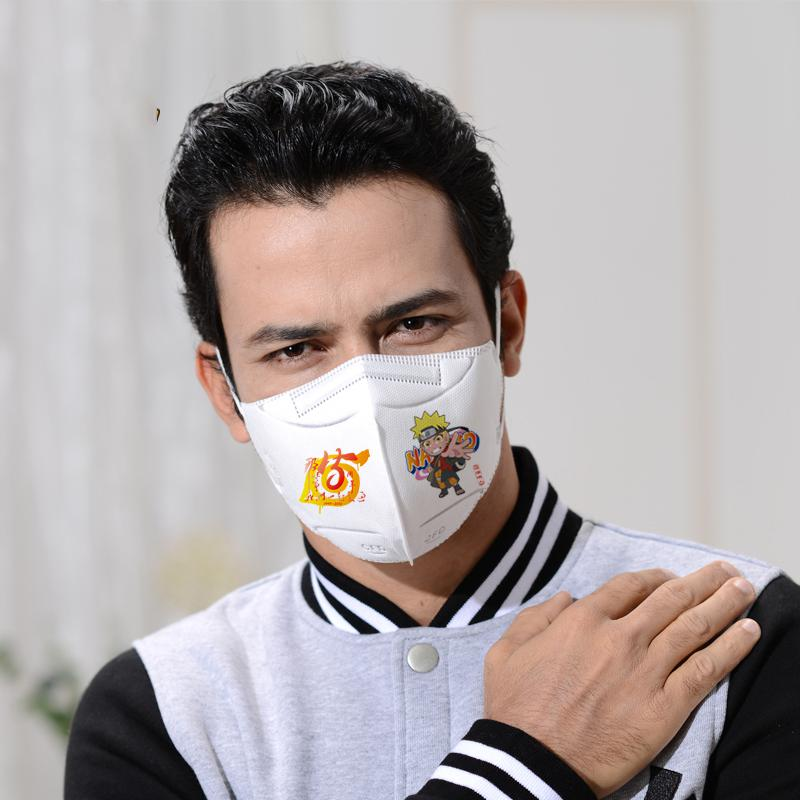OK: (234, 279, 516, 561)
